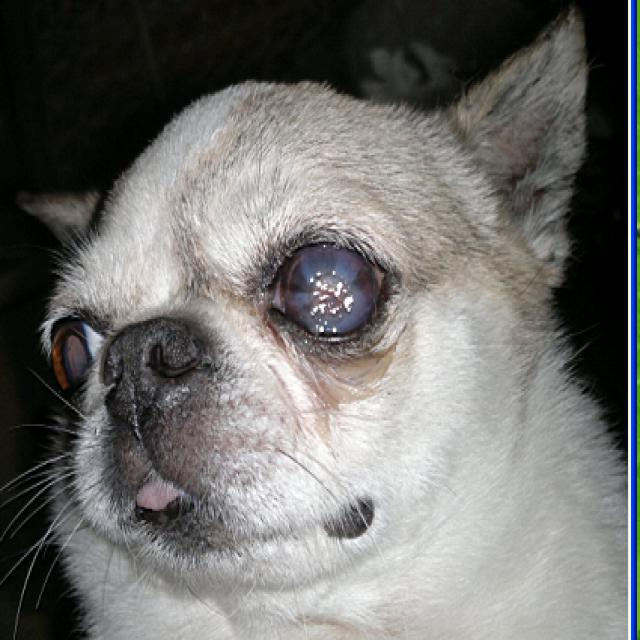eye: (262, 230, 399, 348), (44, 310, 114, 400)
